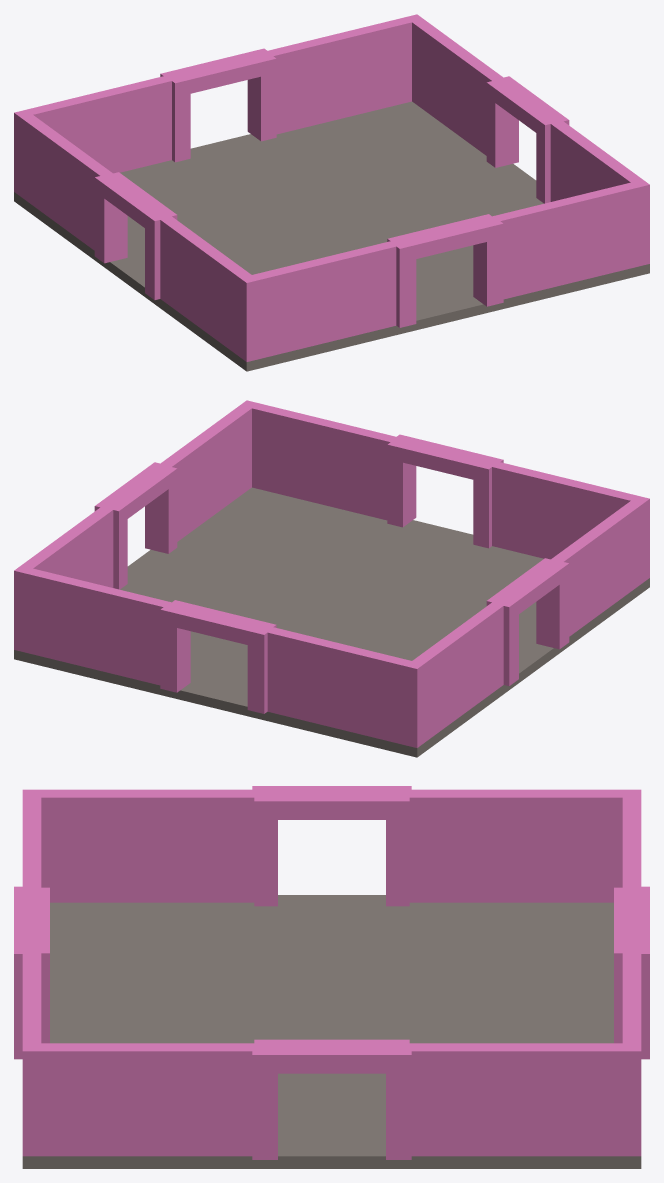
The model's file is room_4ways.fbx.
3 views of the same model, one above another, from view 1: azimuth 30°, elevation 25°; view 2: azimuth 150°, elevation 25°; view 3: azimuth 270°, elevation 25° (orthographic). The views are drawn at different scales.
Parts seen in each view (by area): view 1: room_4ways; view 2: room_4ways; view 3: room_4ways.
Boxes of the visible parts, box(x1,y1,x2,y2) form: room_4ways: box(14, 14, 649, 371); room_4ways: box(14, 400, 649, 757); room_4ways: box(14, 786, 649, 1168).
Bounding box in the file's own units: 2056 × 420 × 2056.
